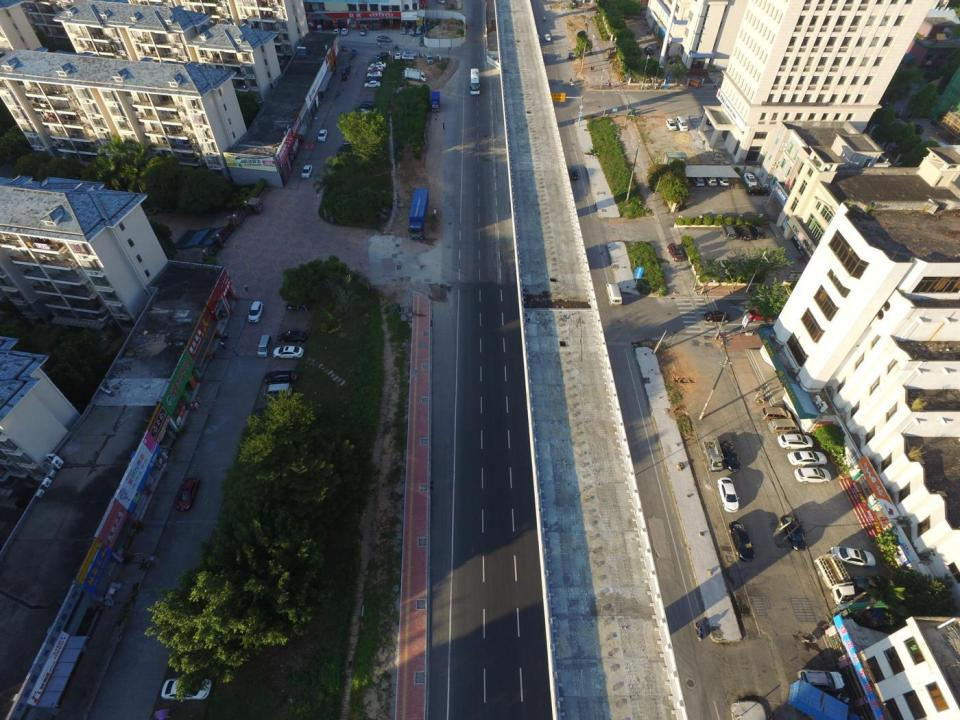bus: (467, 68, 481, 95)
car: (161, 676, 213, 702), (728, 520, 756, 562), (797, 668, 845, 692), (779, 514, 808, 551), (830, 546, 876, 568), (175, 476, 200, 511), (717, 476, 740, 513), (786, 449, 826, 468), (718, 440, 740, 473), (794, 466, 832, 484), (853, 574, 889, 592), (777, 432, 813, 450), (264, 368, 296, 384), (246, 298, 265, 324), (272, 344, 302, 360), (252, 405, 283, 419), (277, 330, 308, 343), (666, 242, 684, 262), (746, 309, 773, 322), (704, 310, 728, 324), (736, 222, 752, 242), (746, 184, 769, 197), (751, 223, 764, 241), (715, 171, 730, 186), (744, 172, 758, 187), (300, 164, 313, 179), (567, 165, 580, 180), (705, 172, 717, 187), (692, 172, 704, 187), (317, 128, 327, 143), (666, 117, 676, 131), (364, 80, 380, 88), (364, 76, 380, 84), (370, 60, 386, 68), (375, 51, 390, 59), (365, 68, 382, 75), (368, 64, 382, 72), (402, 50, 416, 57), (376, 36, 391, 42), (403, 54, 414, 62), (367, 70, 381, 76), (644, 46, 654, 54), (340, 27, 348, 36), (543, 33, 551, 42), (415, 24, 422, 34), (394, 51, 402, 59), (399, 26, 407, 34), (360, 26, 366, 36), (409, 26, 414, 35), (332, 28, 338, 34)
truck: (785, 679, 862, 720), (814, 553, 854, 604), (408, 187, 430, 240), (702, 436, 724, 472), (403, 66, 426, 82), (431, 90, 441, 112)
van: (760, 406, 792, 423), (768, 418, 800, 434), (262, 384, 292, 400), (604, 282, 622, 306), (256, 333, 272, 358), (720, 225, 734, 241), (676, 115, 689, 131), (423, 51, 433, 64), (689, 77, 702, 87)
